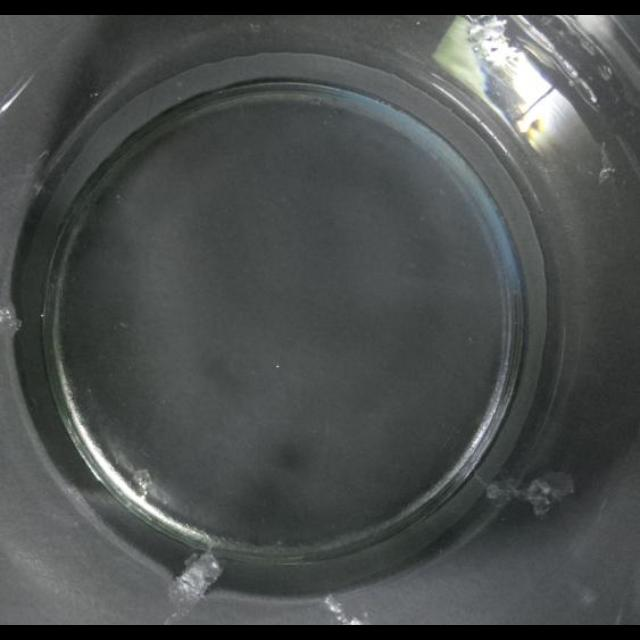Fibre: (484, 467, 574, 517), (323, 594, 373, 624), (26, 148, 52, 196), (598, 144, 618, 183), (130, 468, 154, 498), (1, 307, 23, 333)
